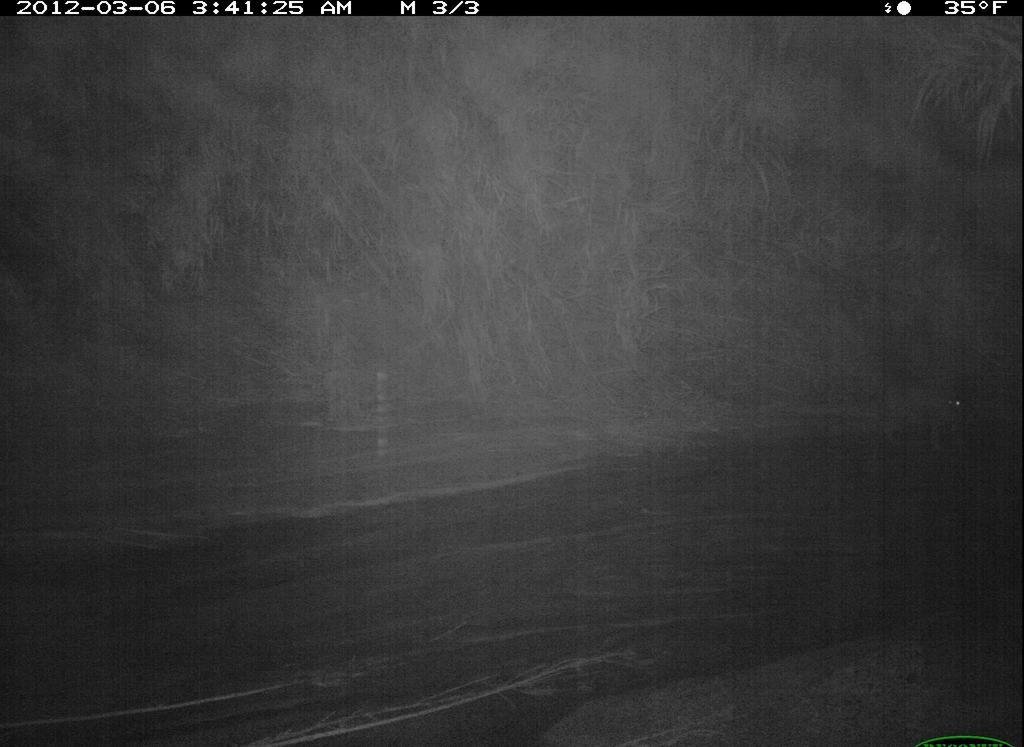bobcat: (863, 379, 989, 472)
